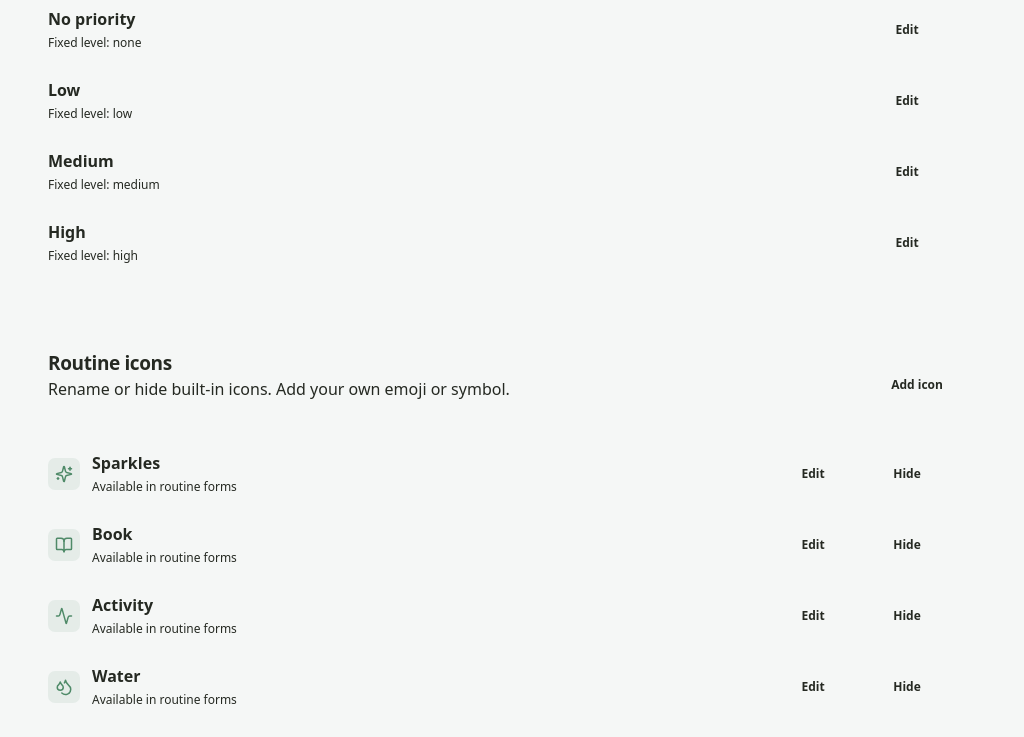
Scenario: keeps the icon editor open and focuses missing name on invalid save
(page scrolled)
Click the button "Add icon" at (917, 384), box [874,365,960,403]
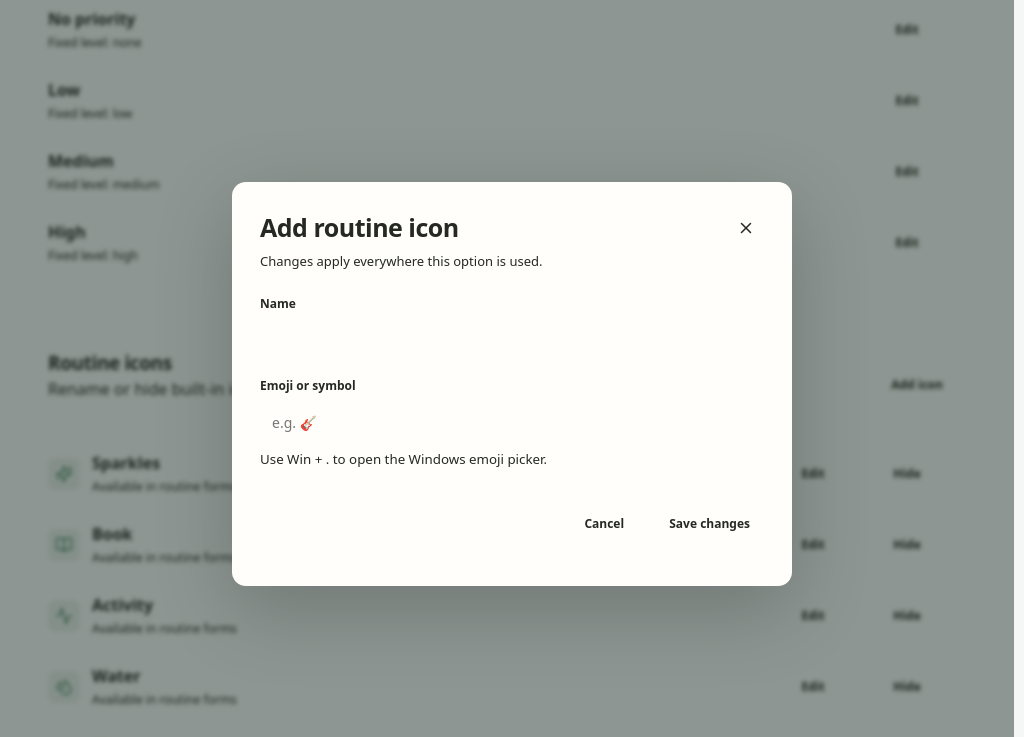
Click the button "Save changes" at (710, 523), box [655,504,764,542]
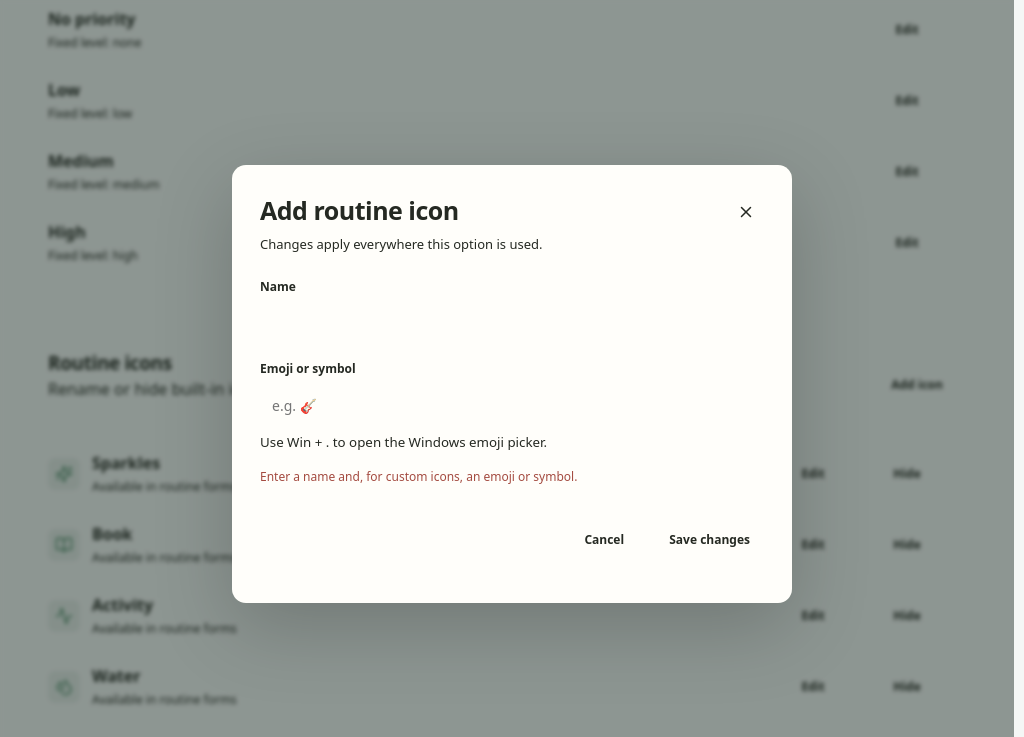
Expected: the message "Enter a name and, for custom icons, an emoji or symbol." is shown, [260,468,577,485]
